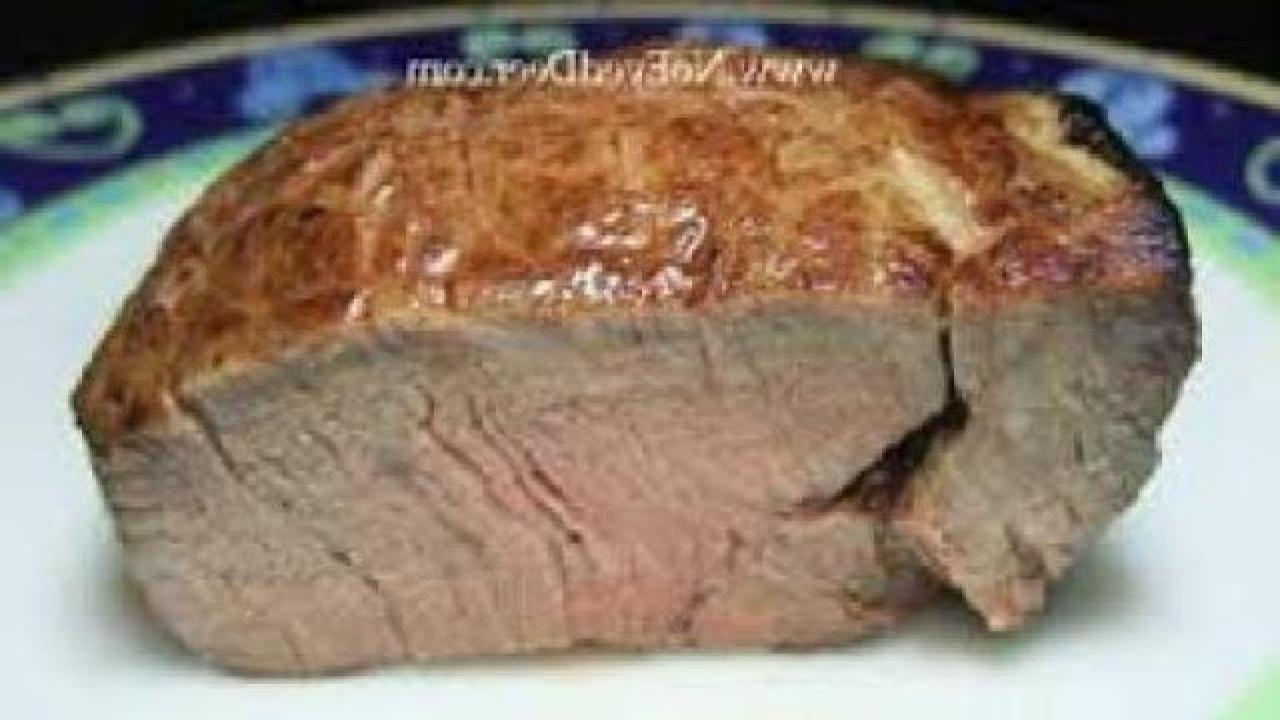Carne: (128, 42, 1197, 705)
